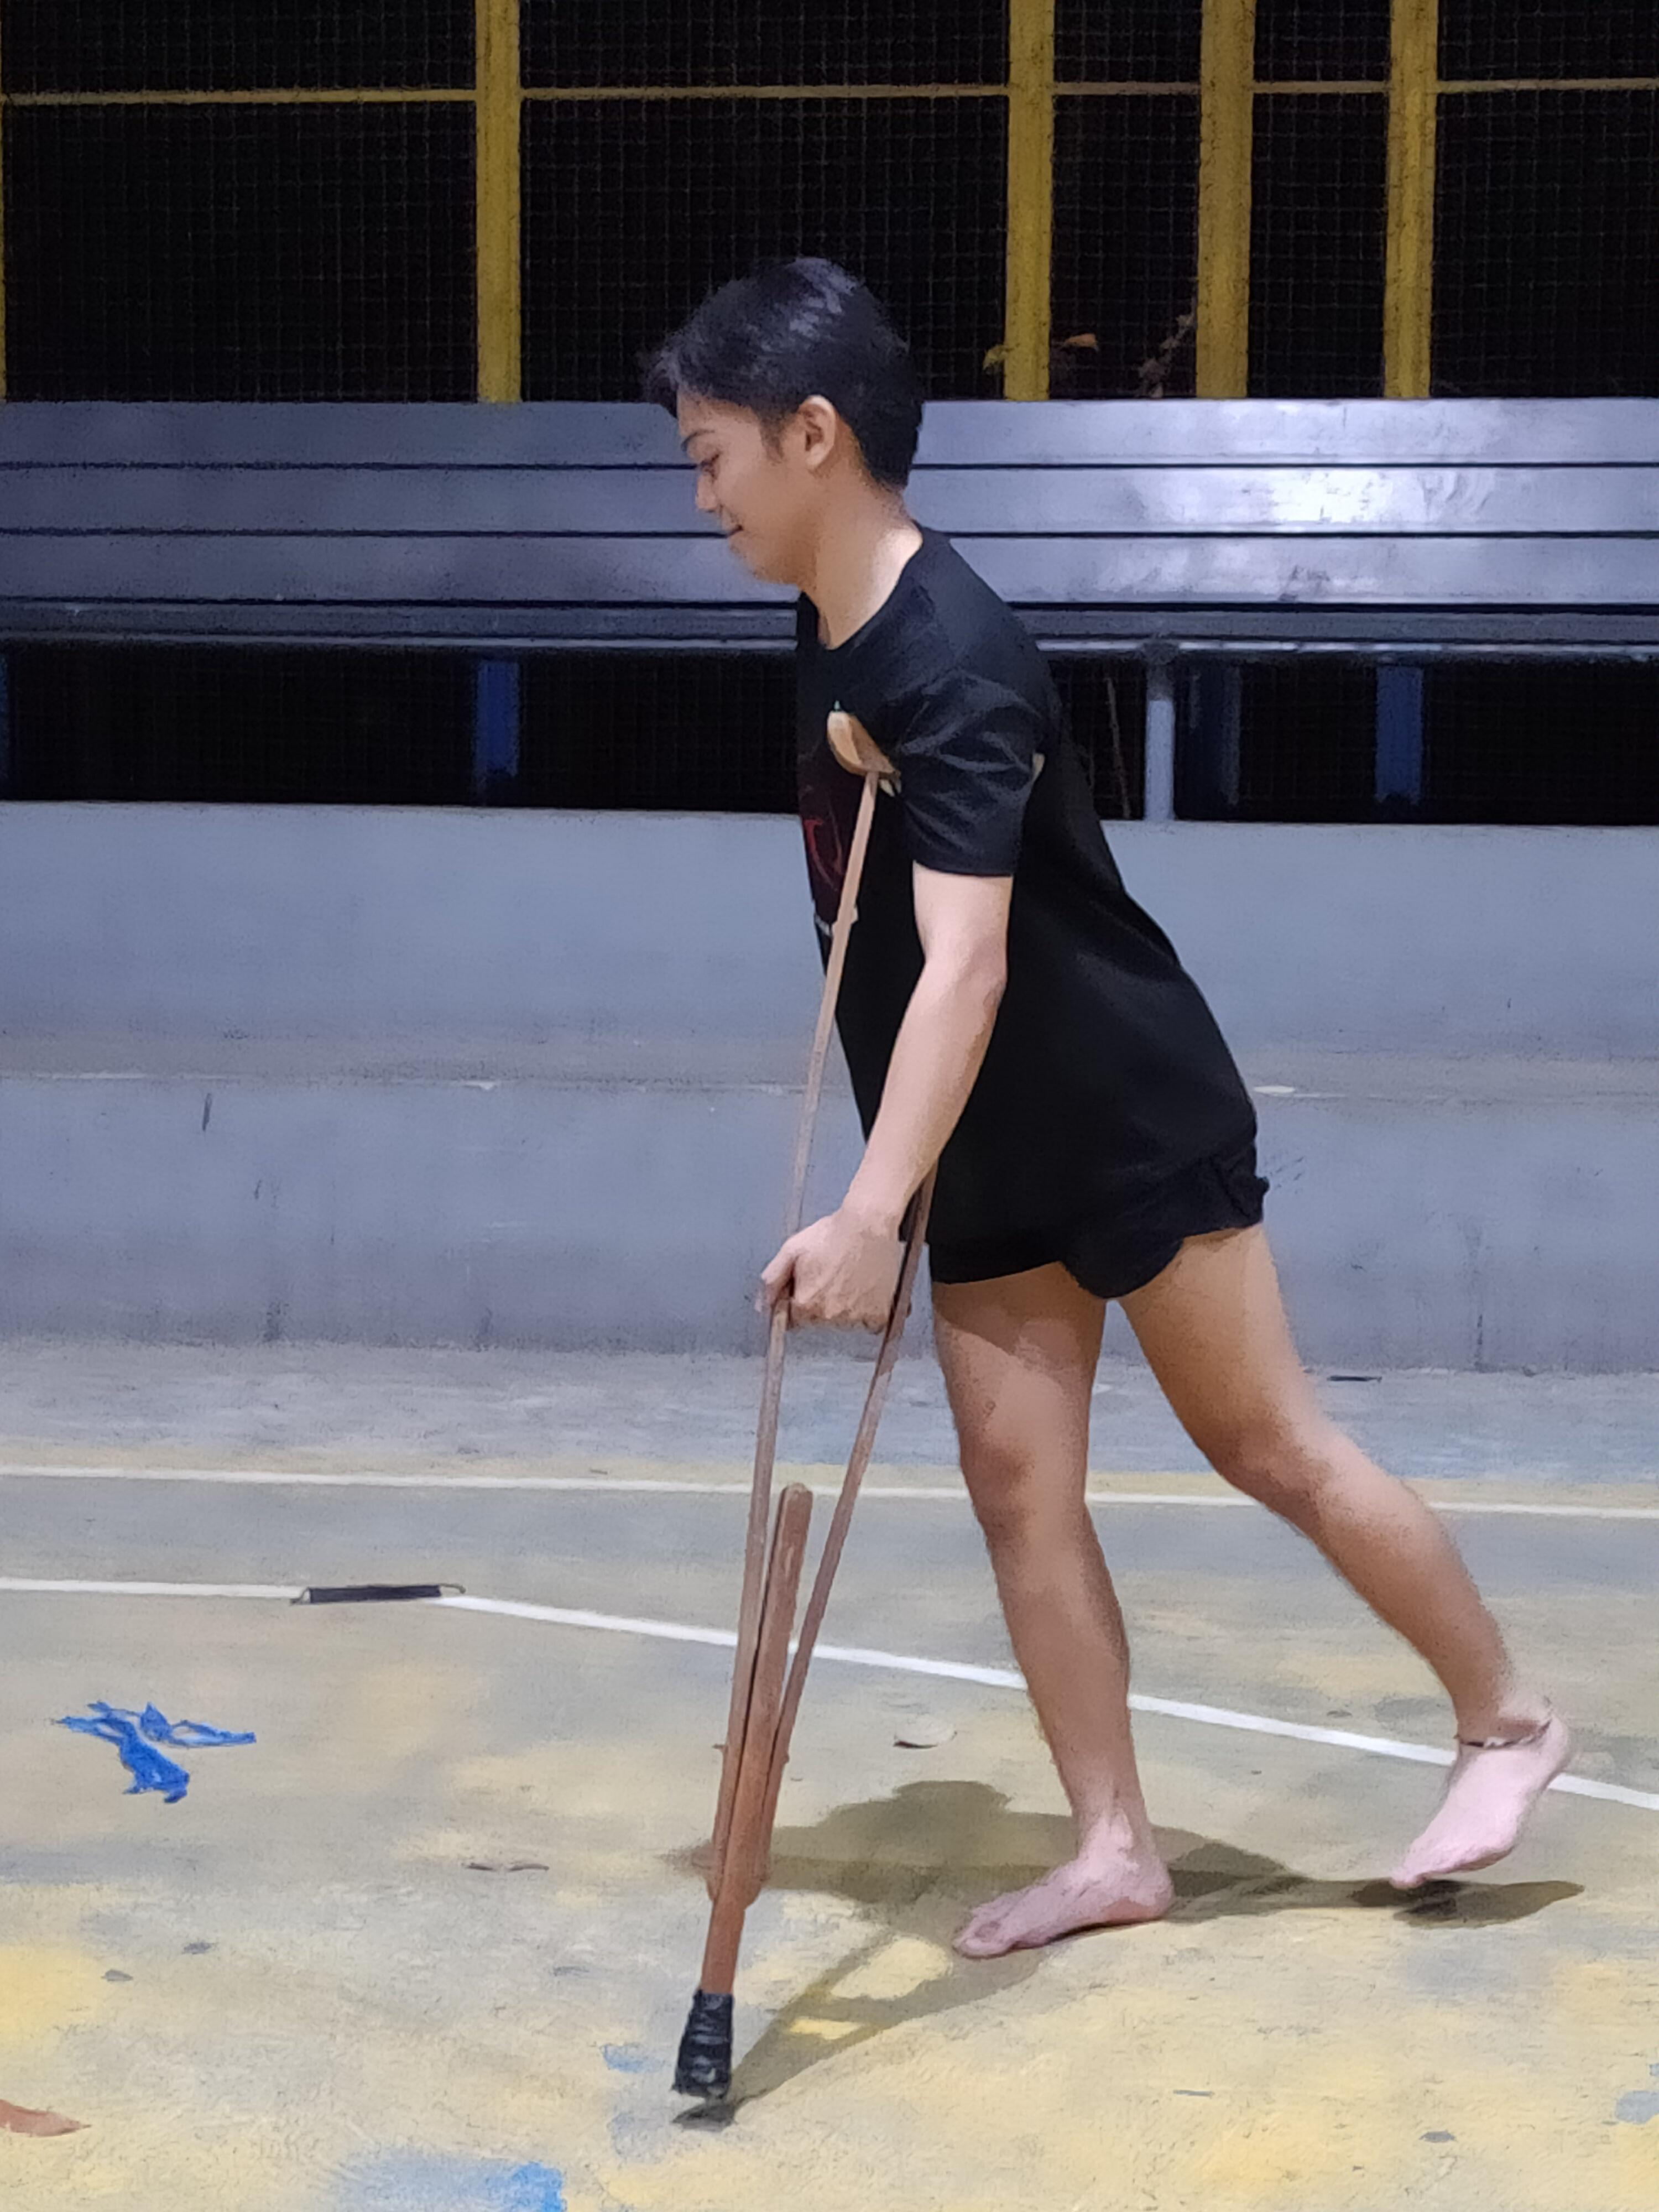crutches: (648, 239, 1589, 2111)
